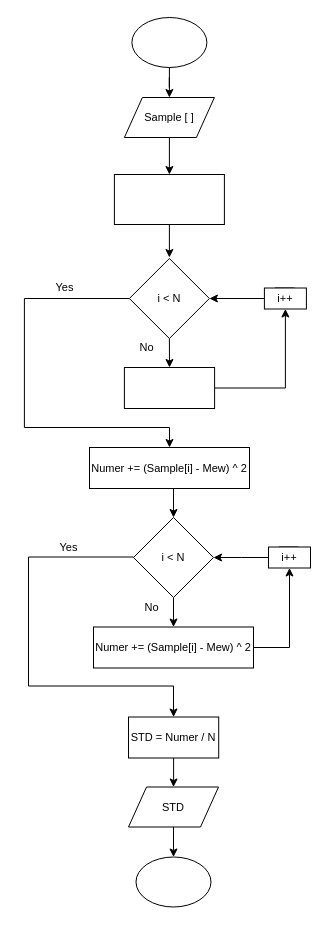
This 329x925 diagram has some shape labels left out. Here are the shapes that lost their labels. From the top down, the centre of each, then its label:
At (169,42): "Start".
At (168,199): "N: Sample Length".
At (169,387): "Sum += Sample[i]".
At (173,881): "End".
